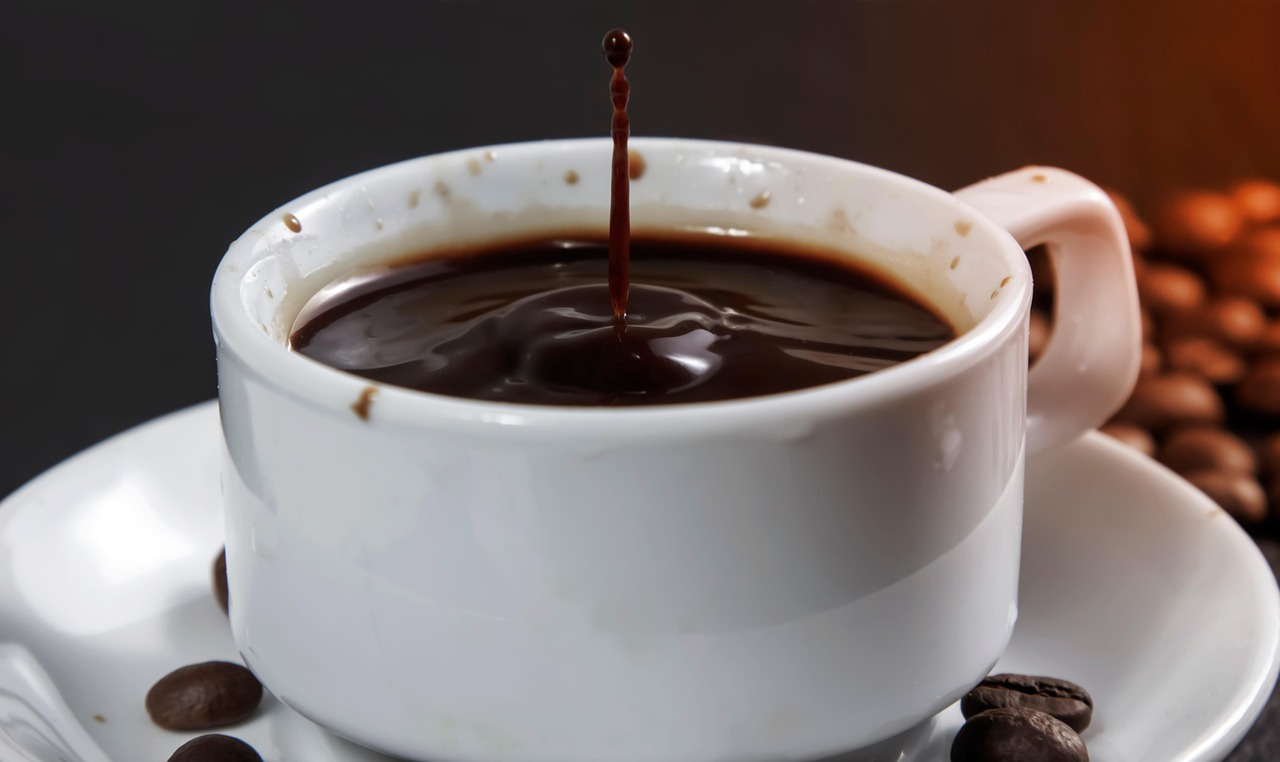mug: (141, 109, 1169, 730)
